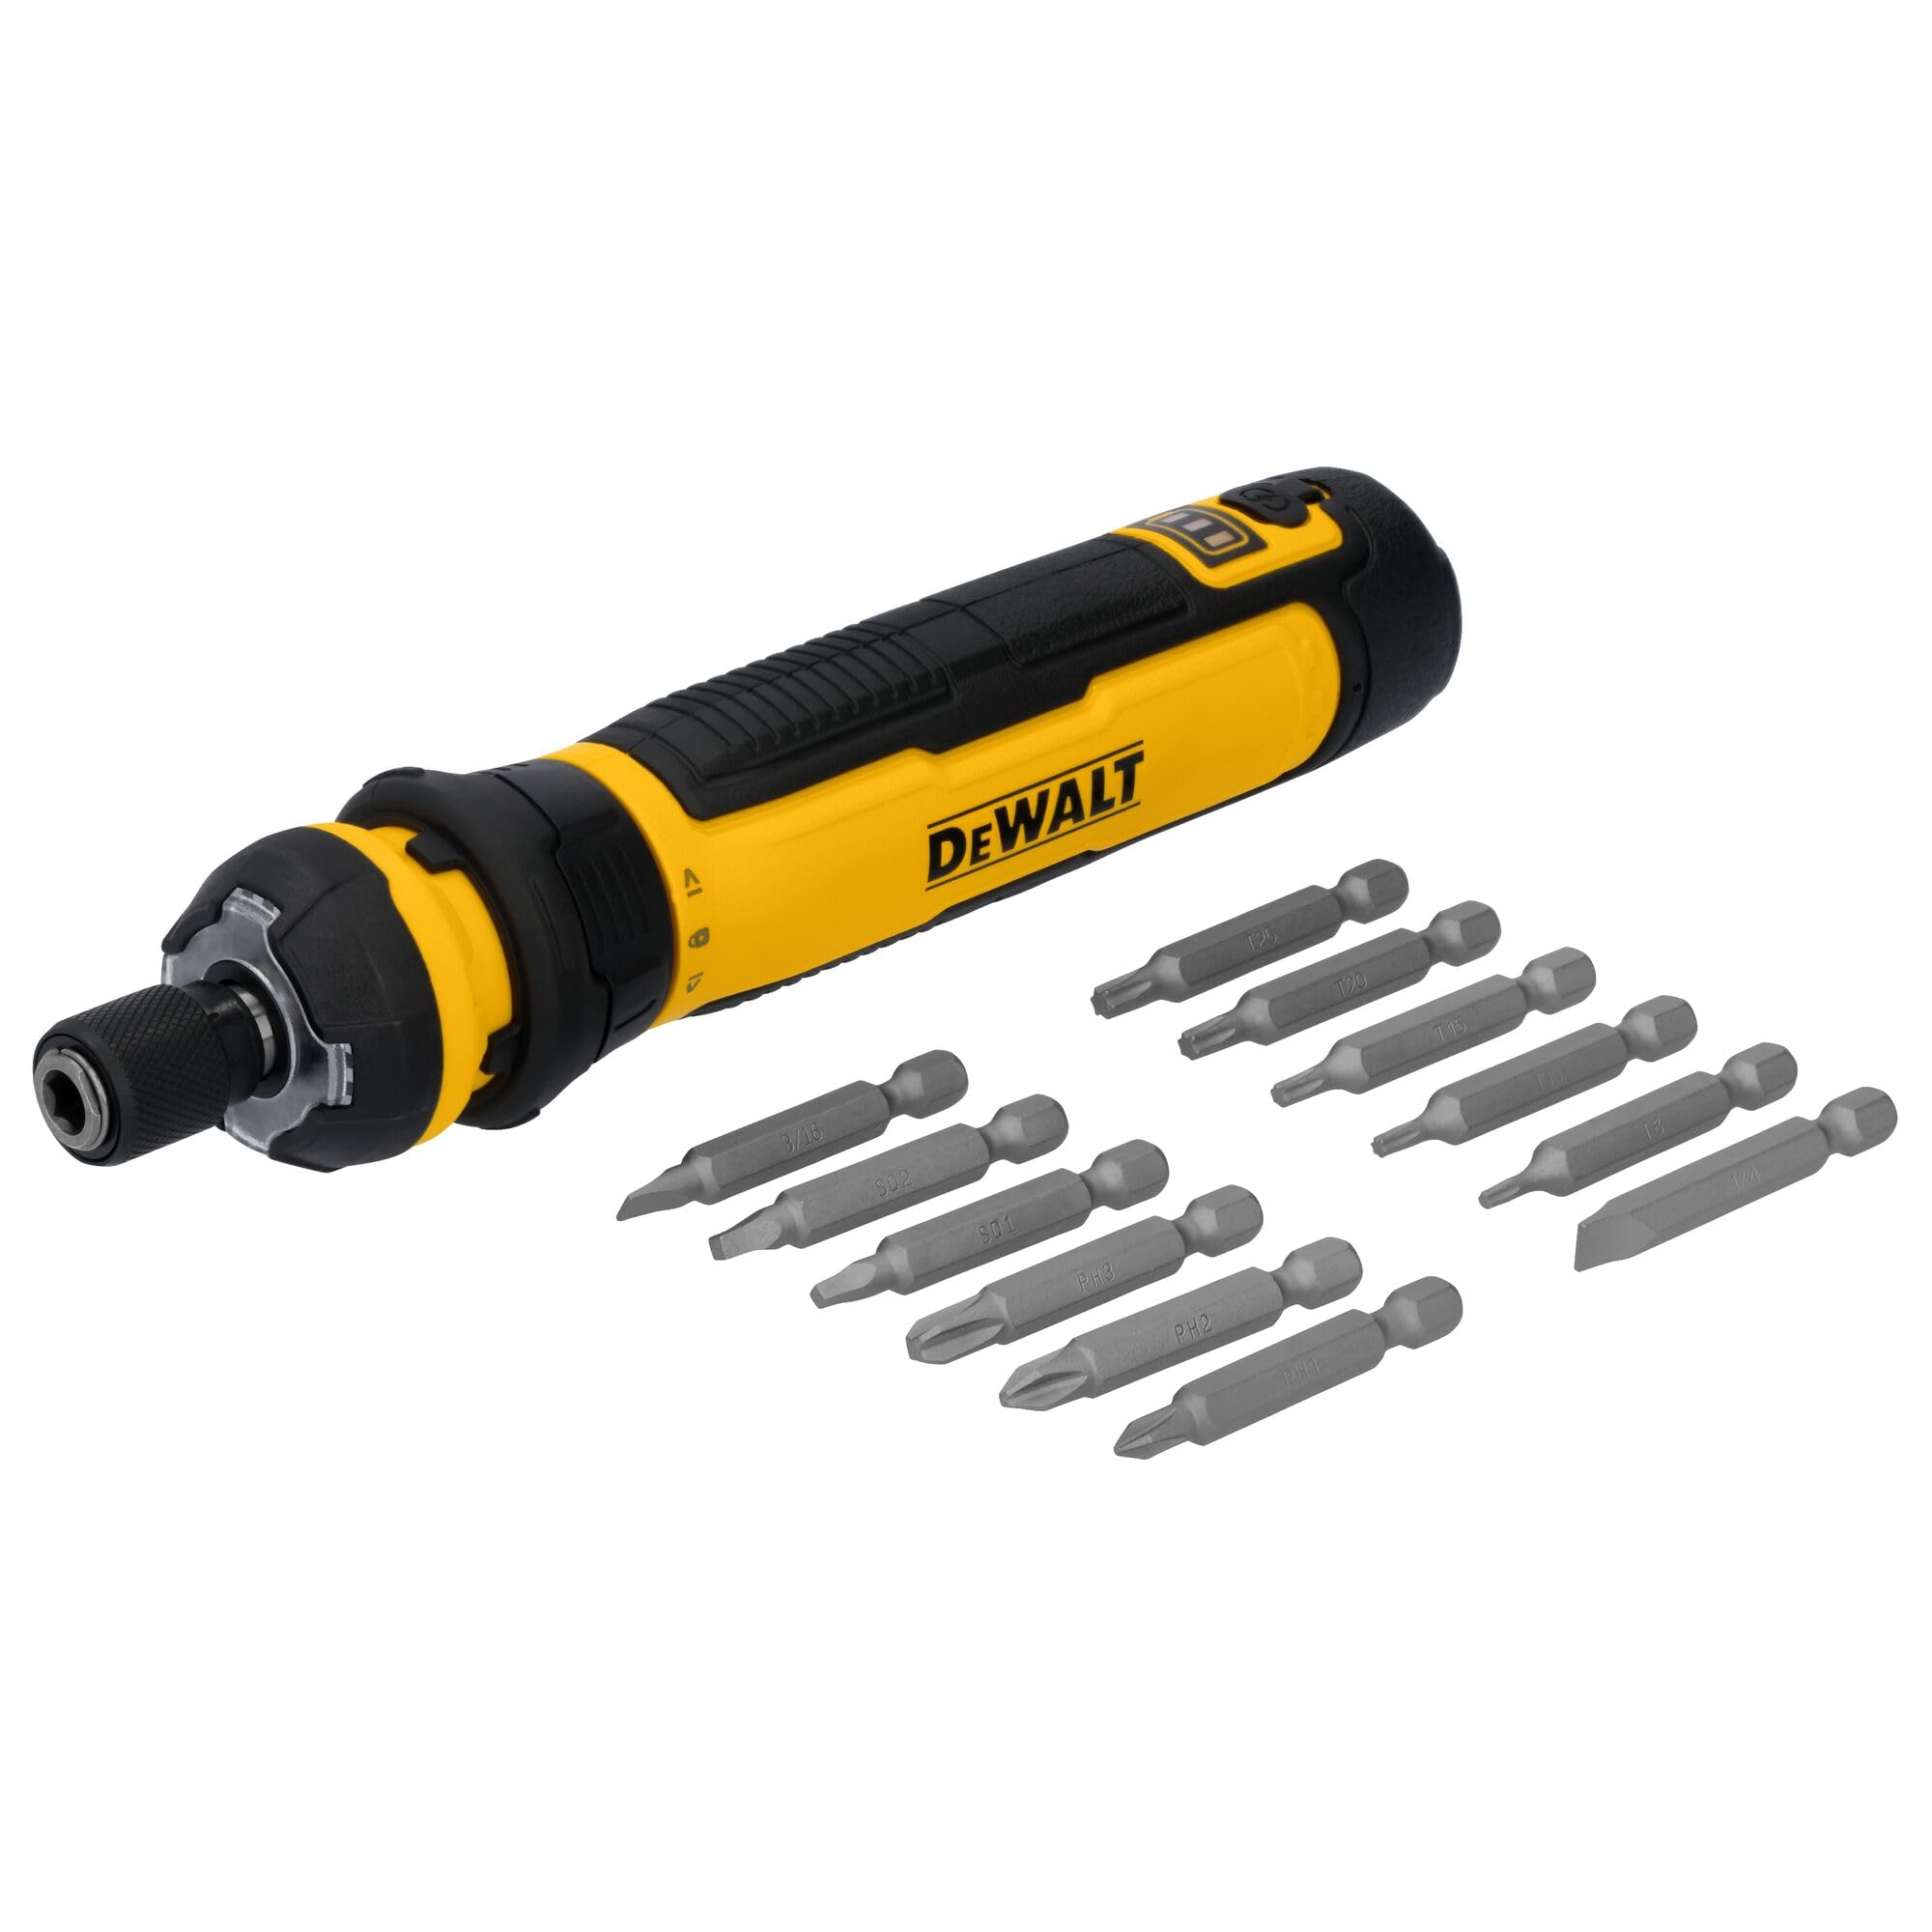screwdriver: (42, 465, 1476, 1178)
